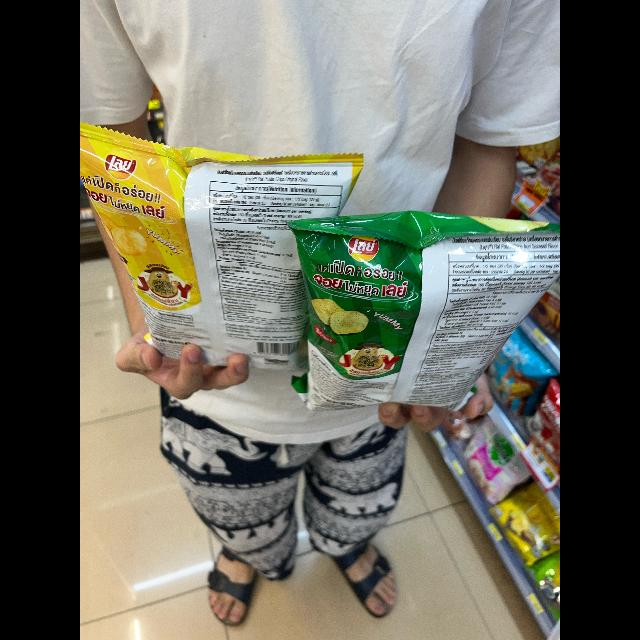snack_bag: (80, 122, 368, 396), (294, 205, 560, 412)
